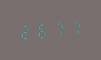seven: (66, 18, 81, 37), (50, 20, 65, 38)
six: (34, 21, 49, 40)
two: (18, 22, 33, 41)
